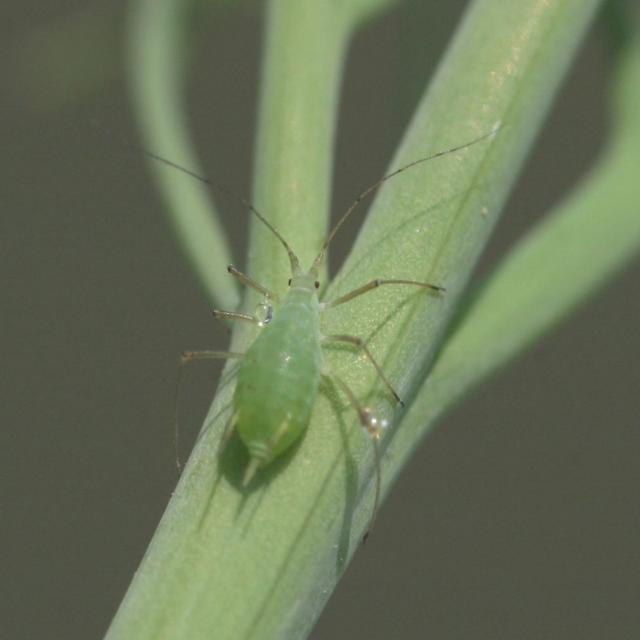Aphid-Grown-: (143, 148, 434, 507)
